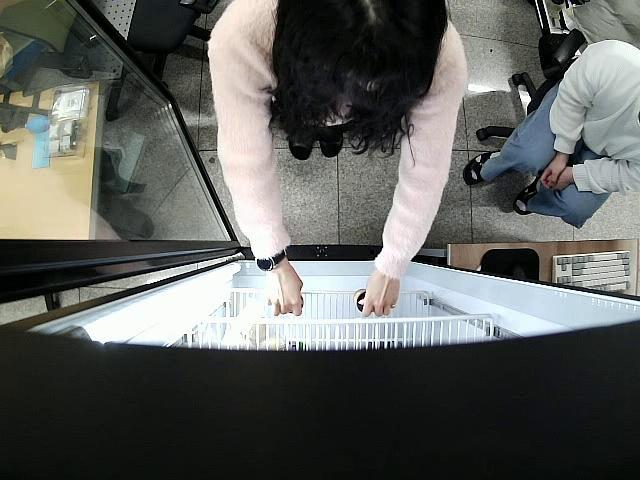17_vita500: (352, 288, 370, 314)
